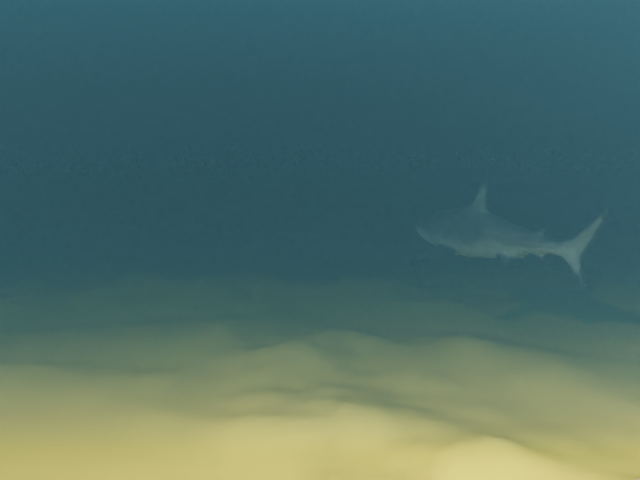Carribean Shark.001: (408, 180, 609, 286)
